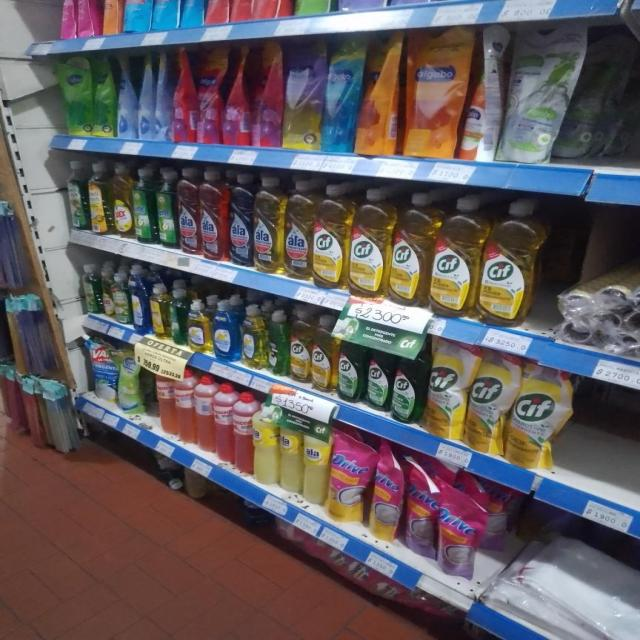ala_conc_amarillo: (254, 174, 283, 275), (284, 178, 312, 281)
ala_conc_azul: (228, 172, 253, 268)
ala_conc_rojo: (200, 168, 227, 262), (177, 167, 199, 255)
ala_crem_amarillo: (304, 426, 328, 506)
cif_conc_bot_amarilla: (479, 198, 539, 326), (430, 195, 478, 316), (390, 192, 430, 308), (350, 188, 390, 300), (313, 183, 348, 291), (312, 314, 336, 393), (290, 309, 311, 384)
cif_conc_botella_verde: (392, 339, 424, 424), (338, 324, 364, 403), (366, 349, 391, 412)
cif_conc_sachet_amarillo: (509, 363, 570, 469), (468, 350, 508, 454), (427, 339, 465, 440)
drive: (330, 429, 370, 524)
heroe: (88, 160, 110, 234)
magistral_con_amarillo: (241, 304, 266, 370), (187, 298, 211, 354)
magistral_con_azul: (213, 299, 239, 362)
odex: (112, 163, 133, 238)
